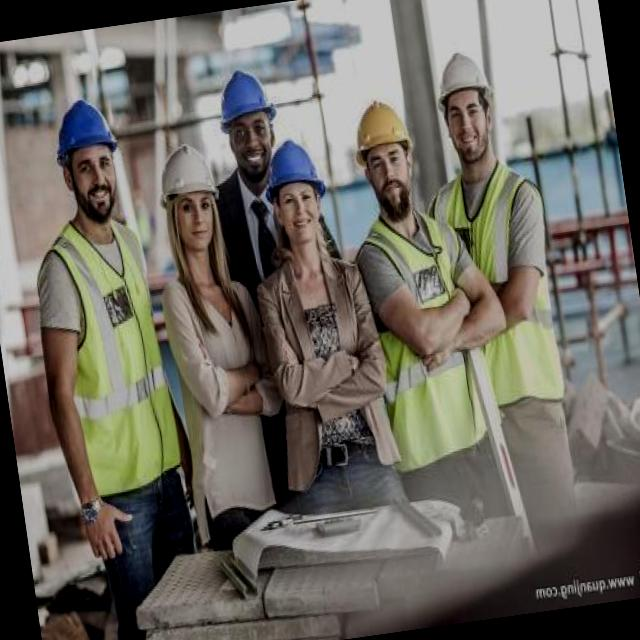helmet: (213, 64, 275, 126), (49, 98, 118, 149), (350, 98, 410, 150), (434, 46, 493, 96), (264, 135, 322, 184), (158, 144, 217, 192)
no-goggles: (356, 142, 416, 182), (270, 179, 328, 218), (441, 90, 494, 132), (164, 188, 222, 225), (64, 144, 120, 182), (222, 112, 278, 148)
no-vest: (264, 248, 383, 480), (168, 266, 274, 503), (218, 179, 276, 272)
vest: (366, 217, 502, 466), (53, 230, 176, 493), (438, 166, 562, 407)
